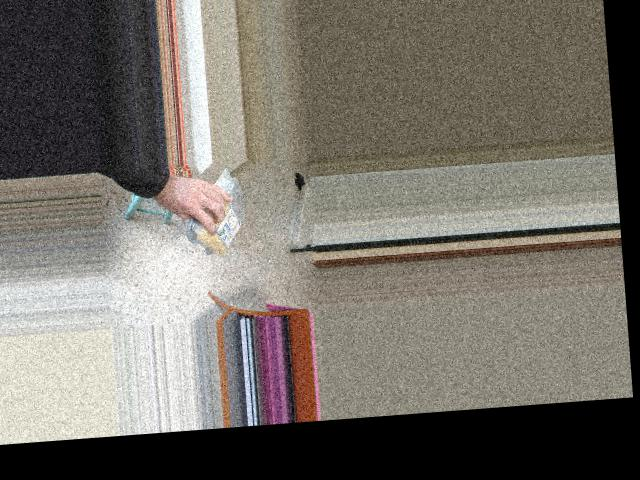cheese: (196, 172, 242, 266)
